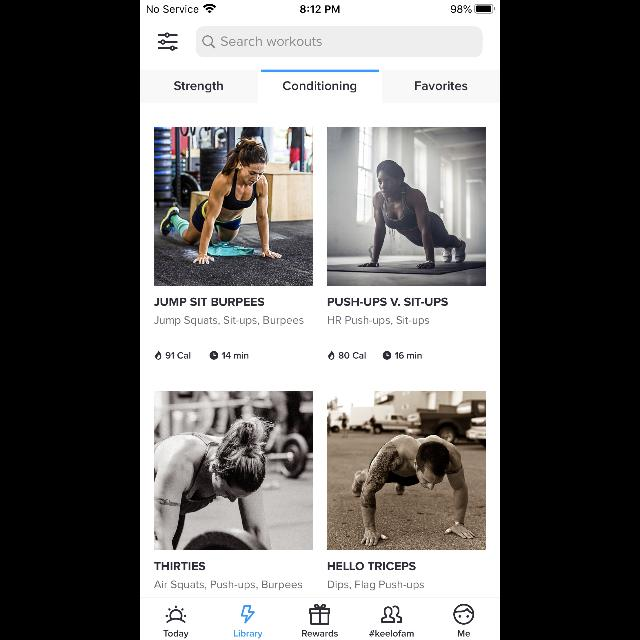icon: (454, 604, 474, 624), (310, 604, 330, 624), (158, 33, 178, 51), (382, 606, 402, 622), (166, 606, 186, 622), (202, 36, 215, 49), (383, 352, 391, 360), (210, 352, 218, 360), (328, 350, 334, 360), (156, 350, 162, 360)
image: (154, 128, 314, 286), (154, 392, 314, 550), (328, 128, 487, 286), (328, 392, 487, 550), (242, 605, 254, 623)
input: (196, 27, 482, 58)
text: (154, 316, 304, 326), (154, 580, 302, 590), (328, 316, 429, 326), (222, 36, 322, 46), (328, 298, 448, 306), (154, 298, 264, 306), (284, 81, 356, 92), (328, 582, 424, 590), (328, 562, 416, 570), (175, 81, 223, 92), (415, 82, 467, 90), (154, 562, 206, 570), (369, 630, 413, 636), (338, 352, 366, 360), (235, 630, 263, 638), (302, 630, 338, 636), (395, 352, 421, 360), (166, 352, 190, 360), (164, 630, 188, 638), (222, 353, 248, 359), (458, 630, 470, 636)
uppertaskbar: (140, 0, 500, 14)
